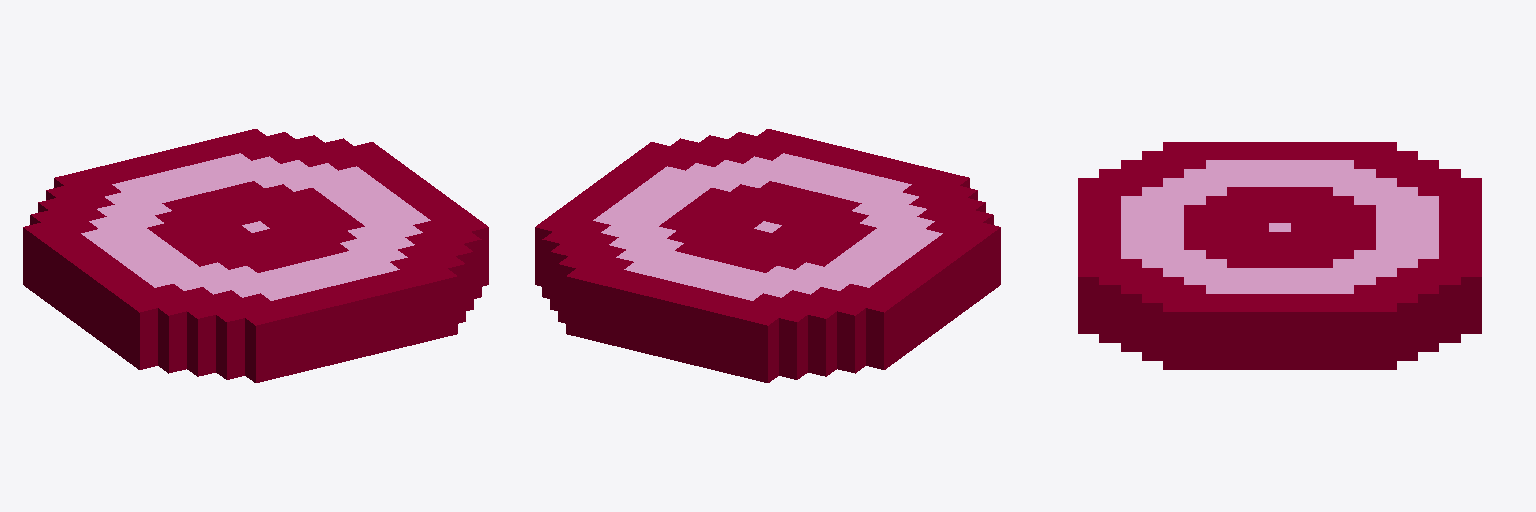
The picture shows the model from 3 angles: view 1: azimuth 30°, elevation 25°; view 2: azimuth 150°, elevation 25°; view 3: azimuth 270°, elevation 25°; orthographic projection.
Visible parts, largest first — view 1: circle; view 2: circle; view 3: circle.
Part boxes in pixels (left/top/right/bottom): circle: left=23, top=129, right=488, bottom=382; circle: left=535, top=129, right=1000, bottom=382; circle: left=1078, top=142, right=1481, bottom=369.
Size of the model in its own units: 19 by 3 by 19.
1 materials, 1 textured.